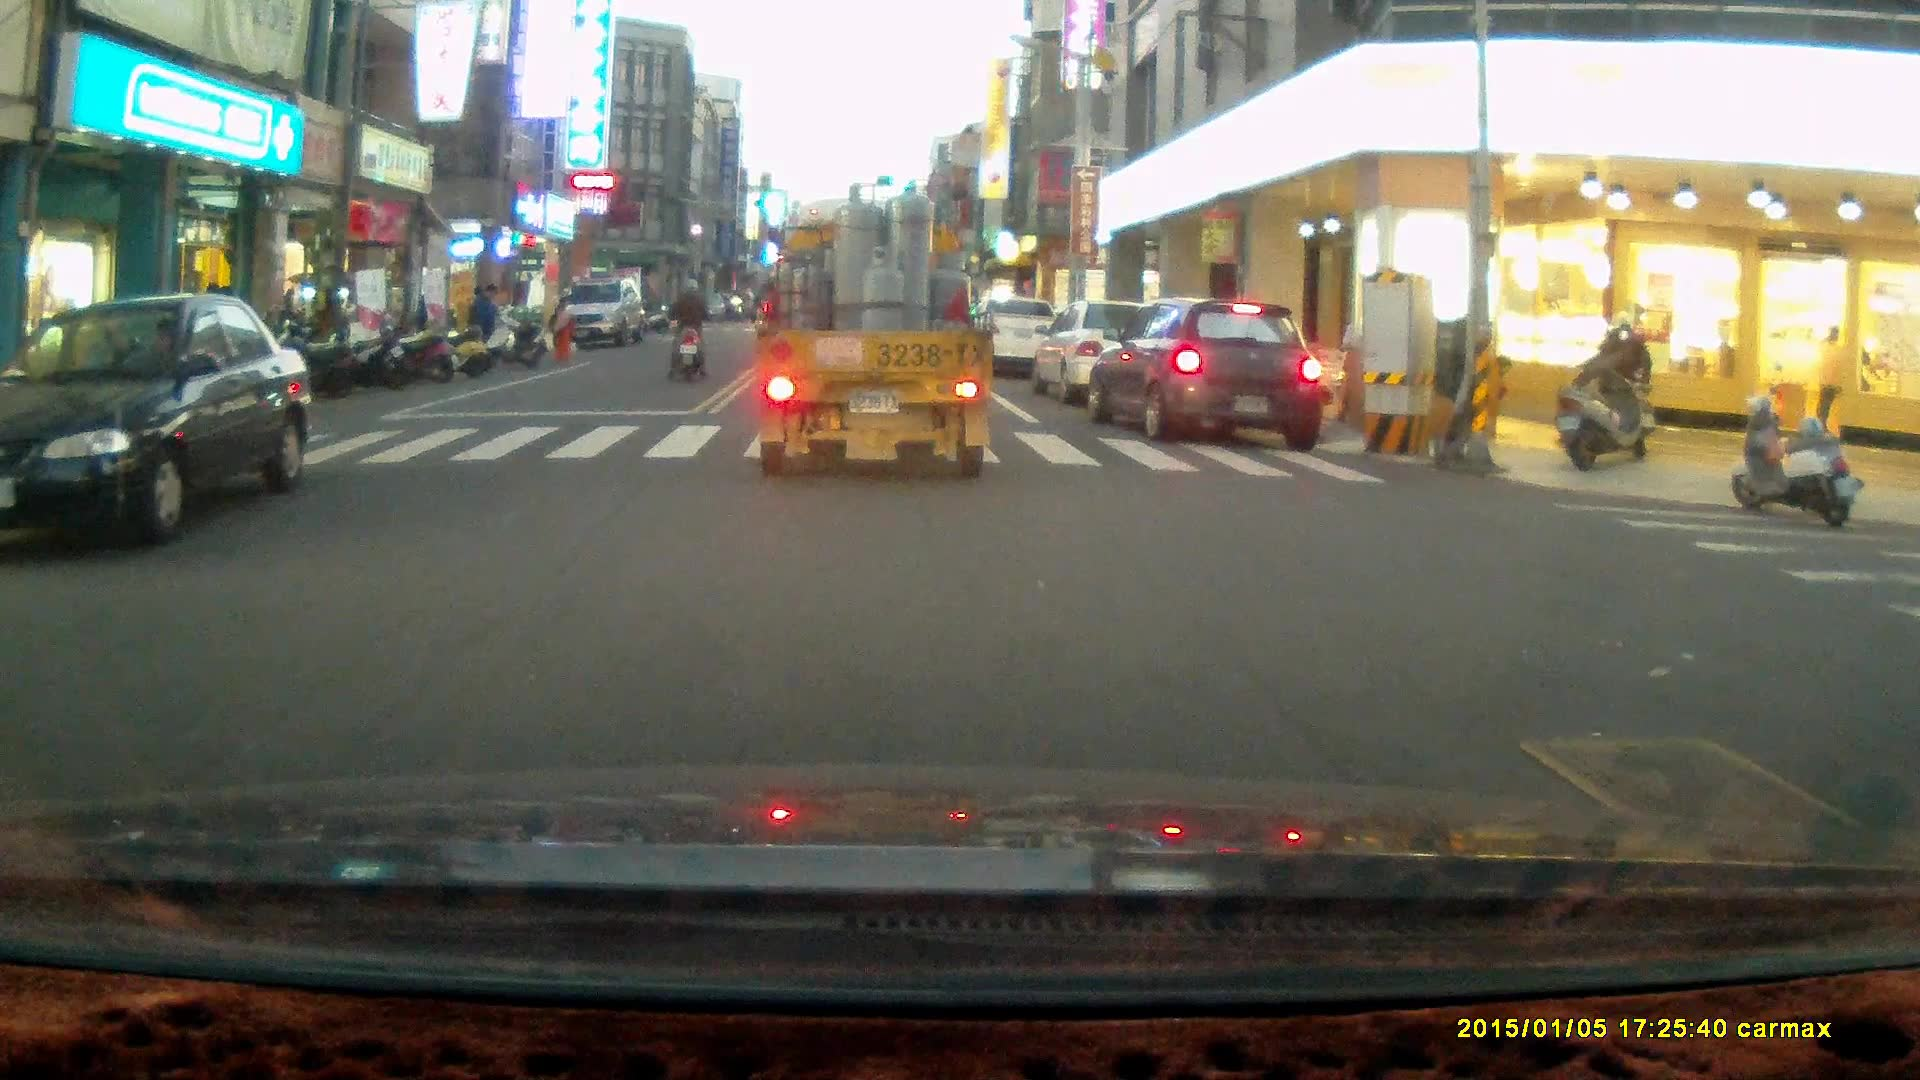pedestrian: (468, 282, 502, 366), (546, 292, 575, 365)
rider: (1554, 312, 1650, 459), (660, 277, 707, 386)
vehicle: (1, 291, 322, 550), (755, 179, 995, 483), (1093, 295, 1324, 449), (1039, 303, 1197, 412), (968, 296, 1066, 380), (561, 282, 653, 352)
